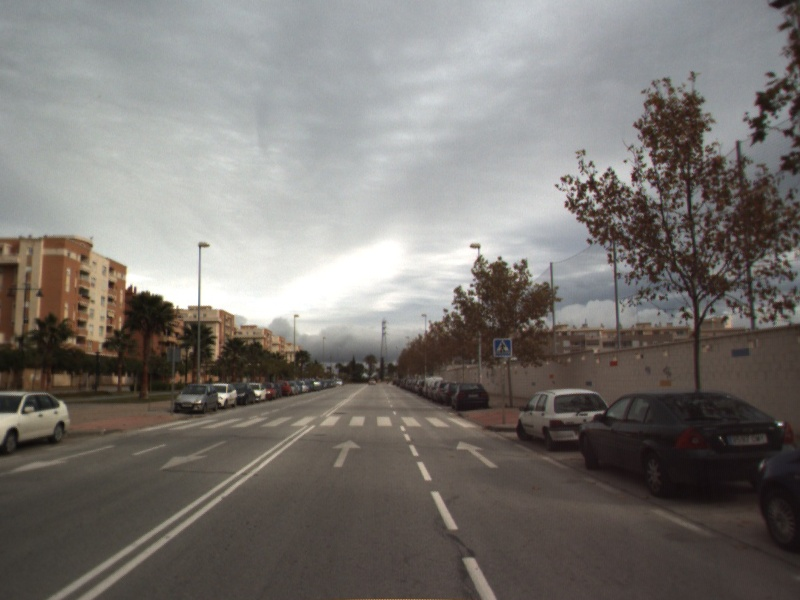STRAIGHT: (454, 438, 501, 470), (330, 437, 363, 469)
